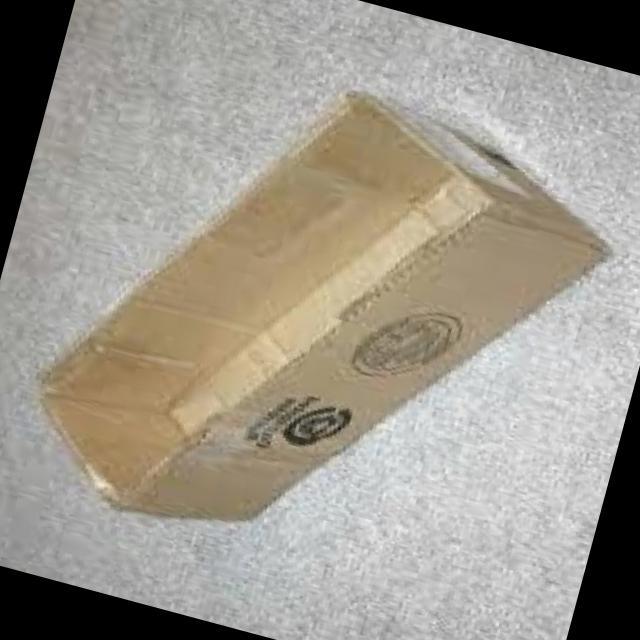cardboard paper: (40, 91, 603, 517)
